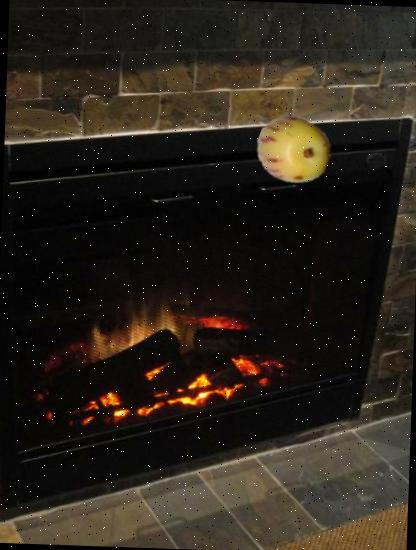Pepino: (255, 111, 332, 188)
